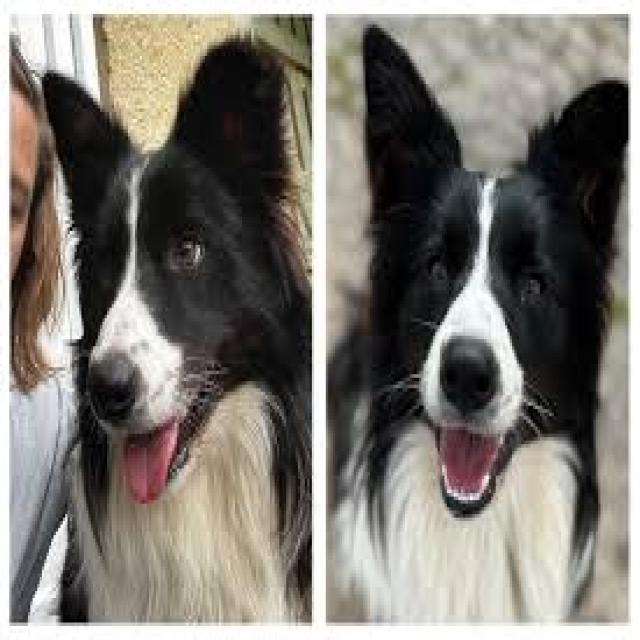BORDER_COLLIE: (326, 18, 622, 610), (39, 29, 310, 621)
